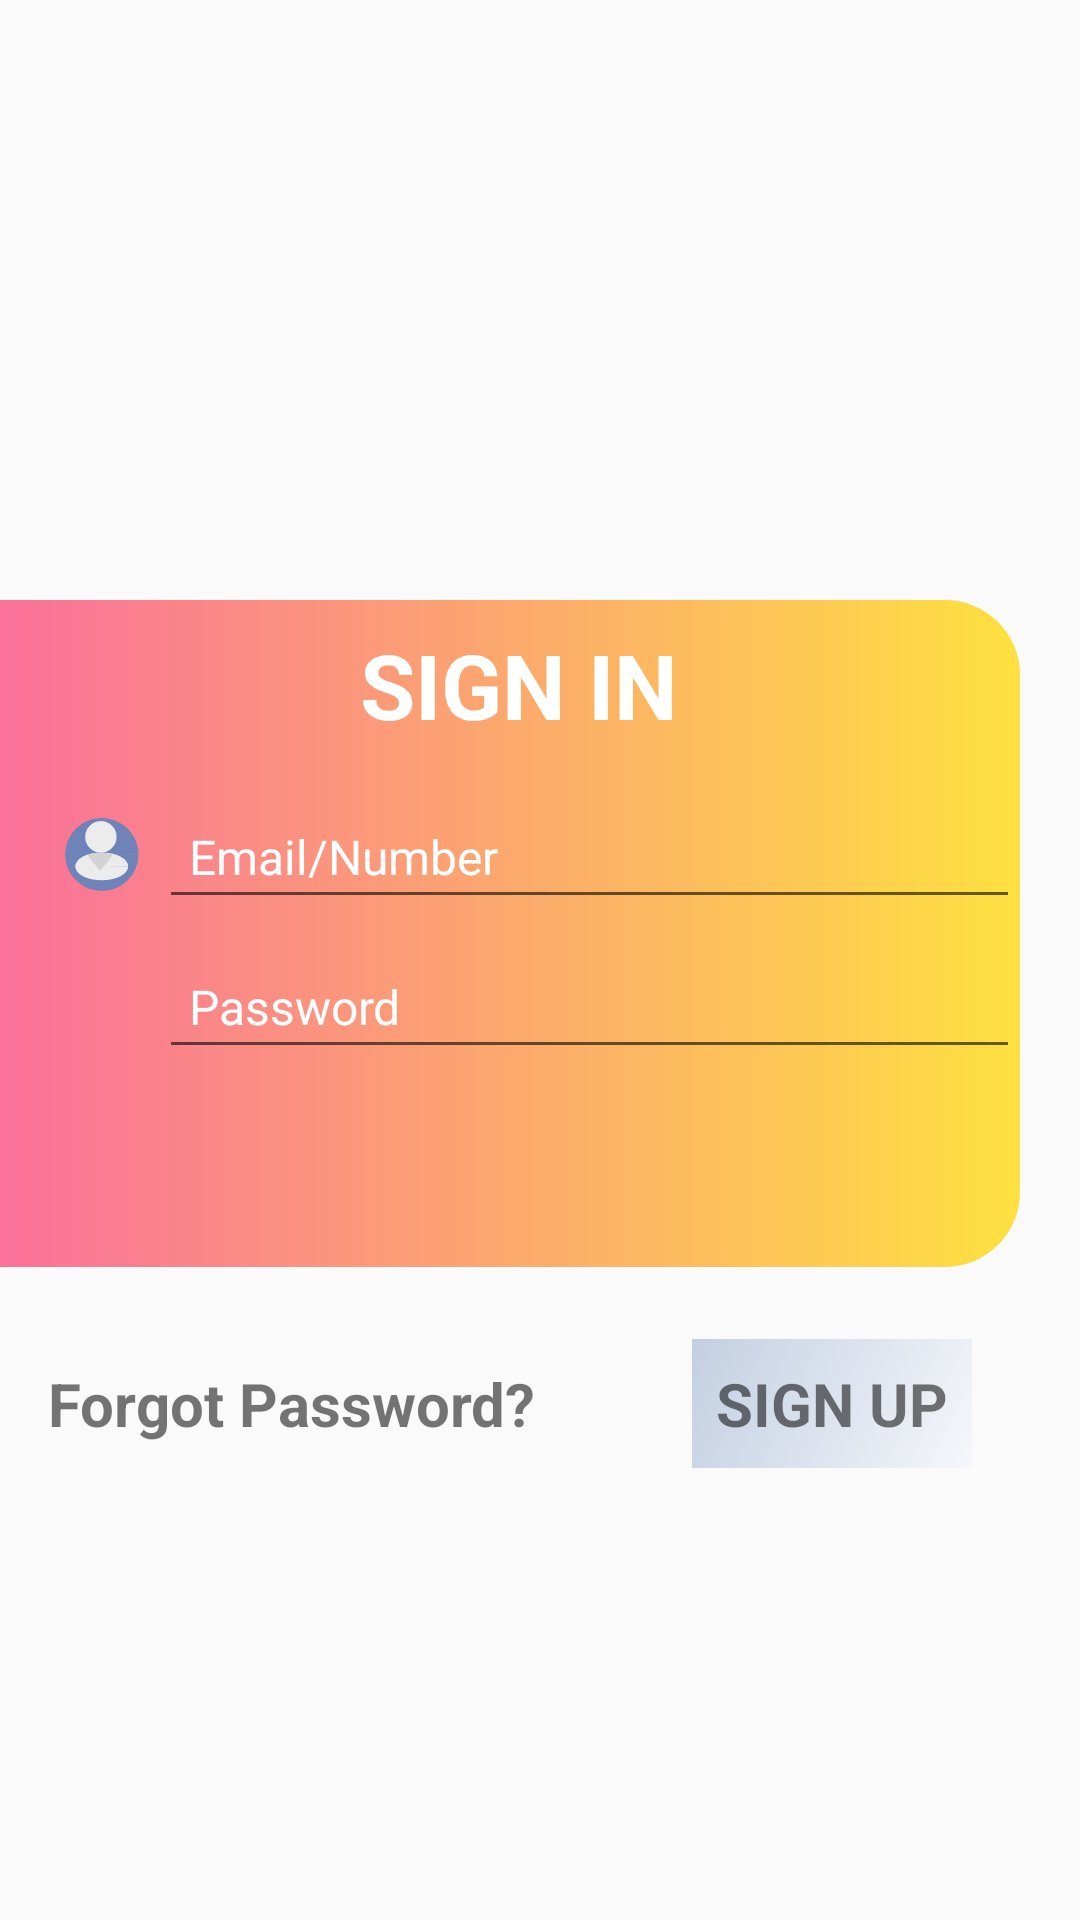

Locate icon controls on the screen. Image size 1080 x 1920, boxes as bbox=[x1, y1, x2, y2].
user: bbox=[65, 818, 139, 891]
